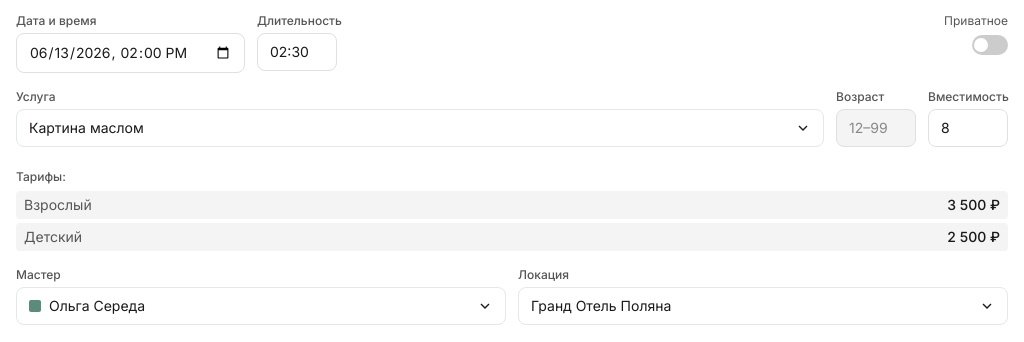
it: SettingsTab — service/location combobox flow › clear option empties the service like the old empty <option value="">
Click the button with test id "combobox-trigger" showing "Картина маслом" at x=86, y=128, box x1=16 y1=109 x2=824 y2=147
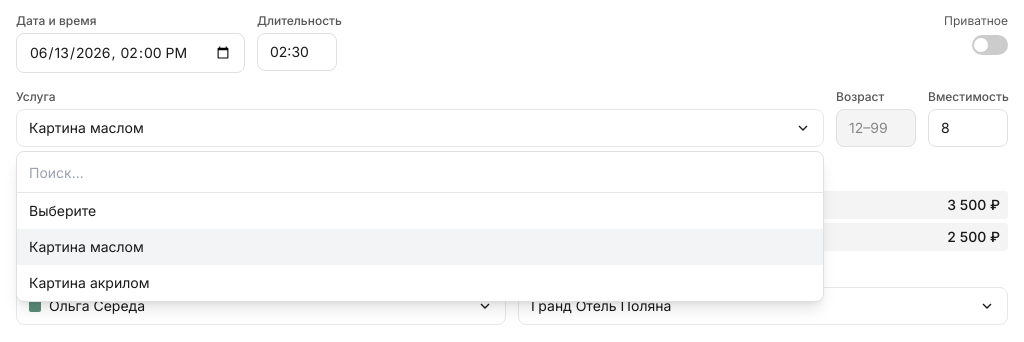
Click the option with test id "combobox-option-clear" at x=63, y=210, box x1=17 y1=193 x2=823 y2=229
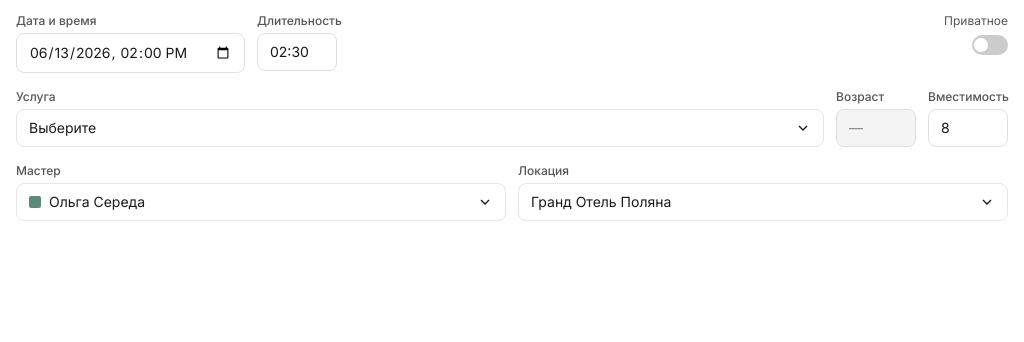
Result: the button with test id "combobox-trigger" reads "Выберите" at x1=16 y1=109 x2=824 y2=147
